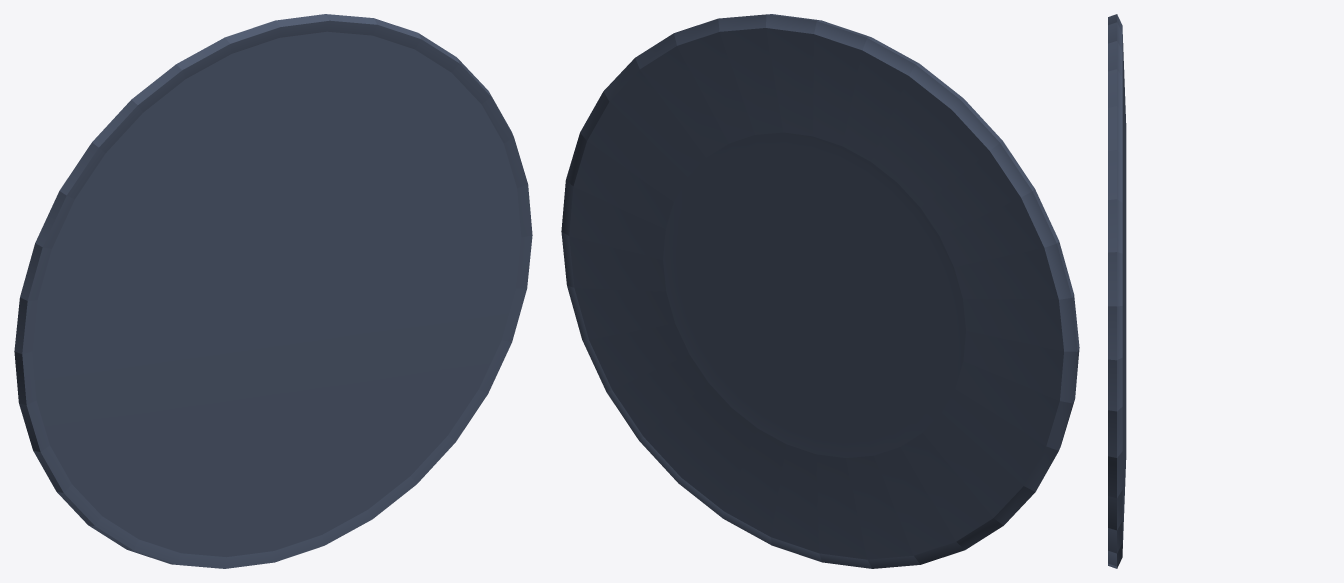
Rendered from BodymeshMicrowaveC5_0_GeomSubset_3.obj.
3 views of the same model, side by side, from view 1: azimuth 30°, elevation 25°; view 2: azimuth 150°, elevation 25°; view 3: azimuth 270°, elevation 25° (orthographic). The views are drawn at different scales.
Parts seen in each view (by area): view 1: BodymeshMicrowaveC5_0_GeomSubset_3; view 2: BodymeshMicrowaveC5_0_GeomSubset_3; view 3: BodymeshMicrowaveC5_0_GeomSubset_3.
Part boxes in pixels (x1,y1,x2,y2): BodymeshMicrowaveC5_0_GeomSubset_3: (14,14,532,568); BodymeshMicrowaveC5_0_GeomSubset_3: (561,14,1079,568); BodymeshMicrowaveC5_0_GeomSubset_3: (1108,14,1126,568).
Bounding box in the file's own units: 0.2256 × 0.2256 × 0.0901.
